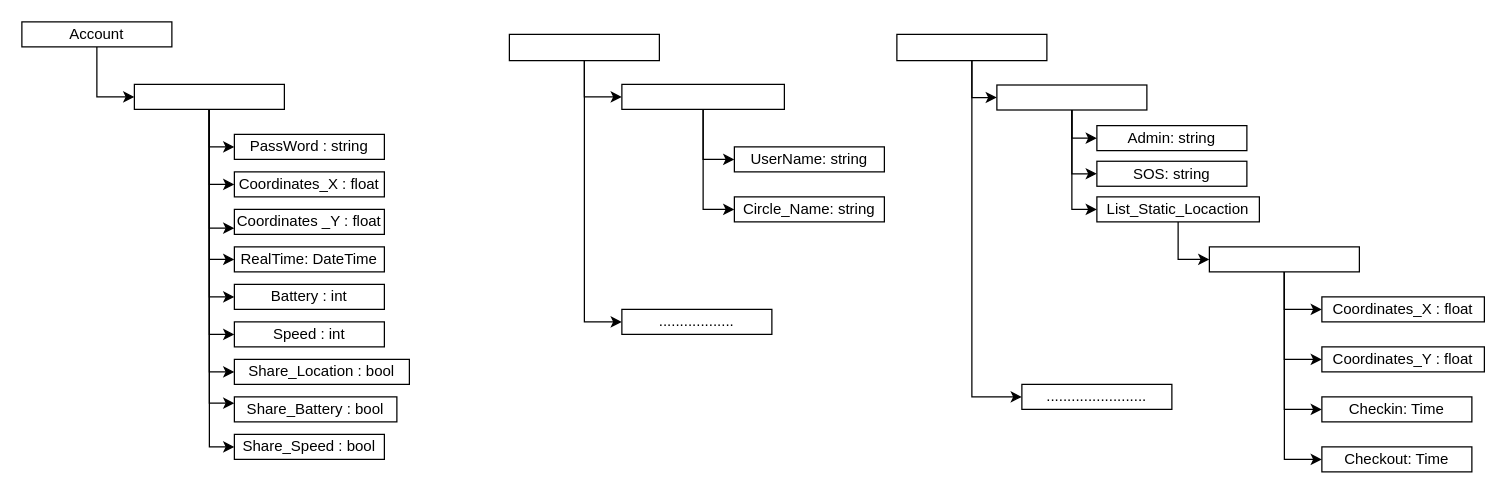
The diagram is 1506 pixels wide and 494 high, and some of its shapes have lost their labels. Each missing label, with the centre of its shape:
"Circle" belongs at pixel 971 47.
"Circle_Name" belongs at pixel 1071 97.
"ID_Join : string (PK)" belongs at pixel 702 96.
"Join" belongs at pixel 583 47.
"Location_Name" belongs at pixel 1283 259.
"UserName" belongs at pixel 208 96.
